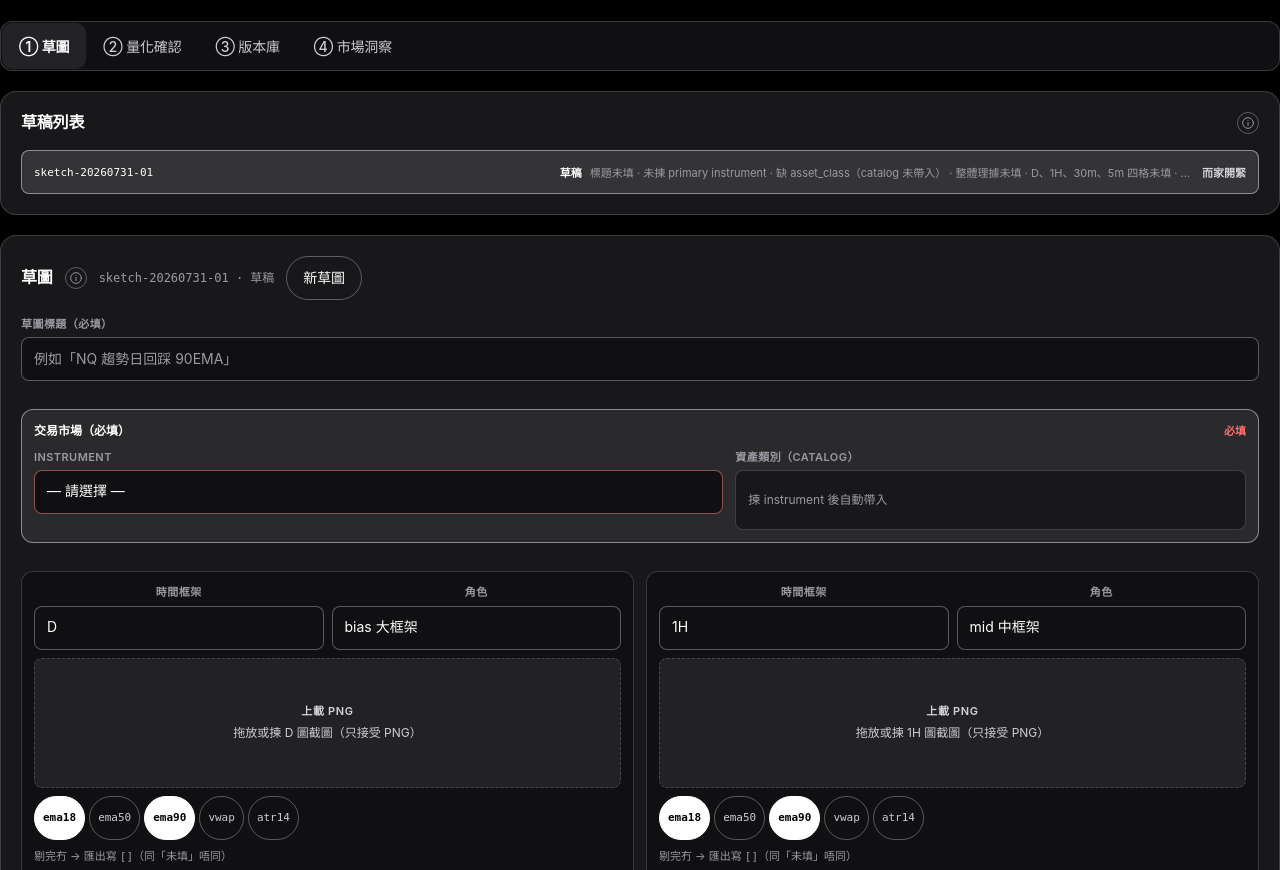
P2 strategy library legacy panels (tab ② / ③) › keeps unquantified_notes visible and parameters read-only
This screenshot has width=1280, height=870.
Click the tab "③ 版本庫" at {"x": 248, "y": 46}, box [200, 24, 296, 68]
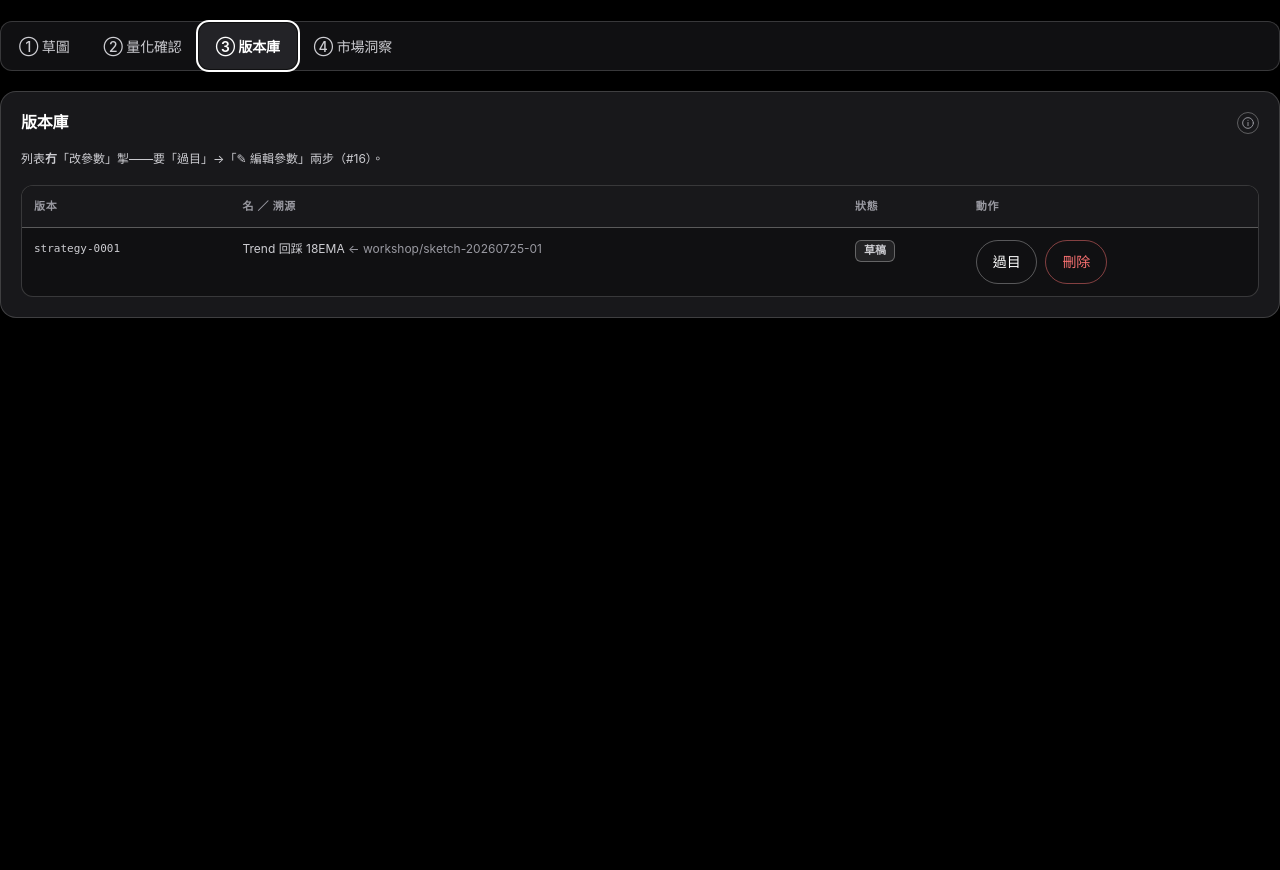
Expected: the text "strategy-0001" is shown, [22, 227, 230, 296]
Click the button "過目" at {"x": 1007, "y": 262}, box [976, 240, 1038, 284]
(page scrolled)
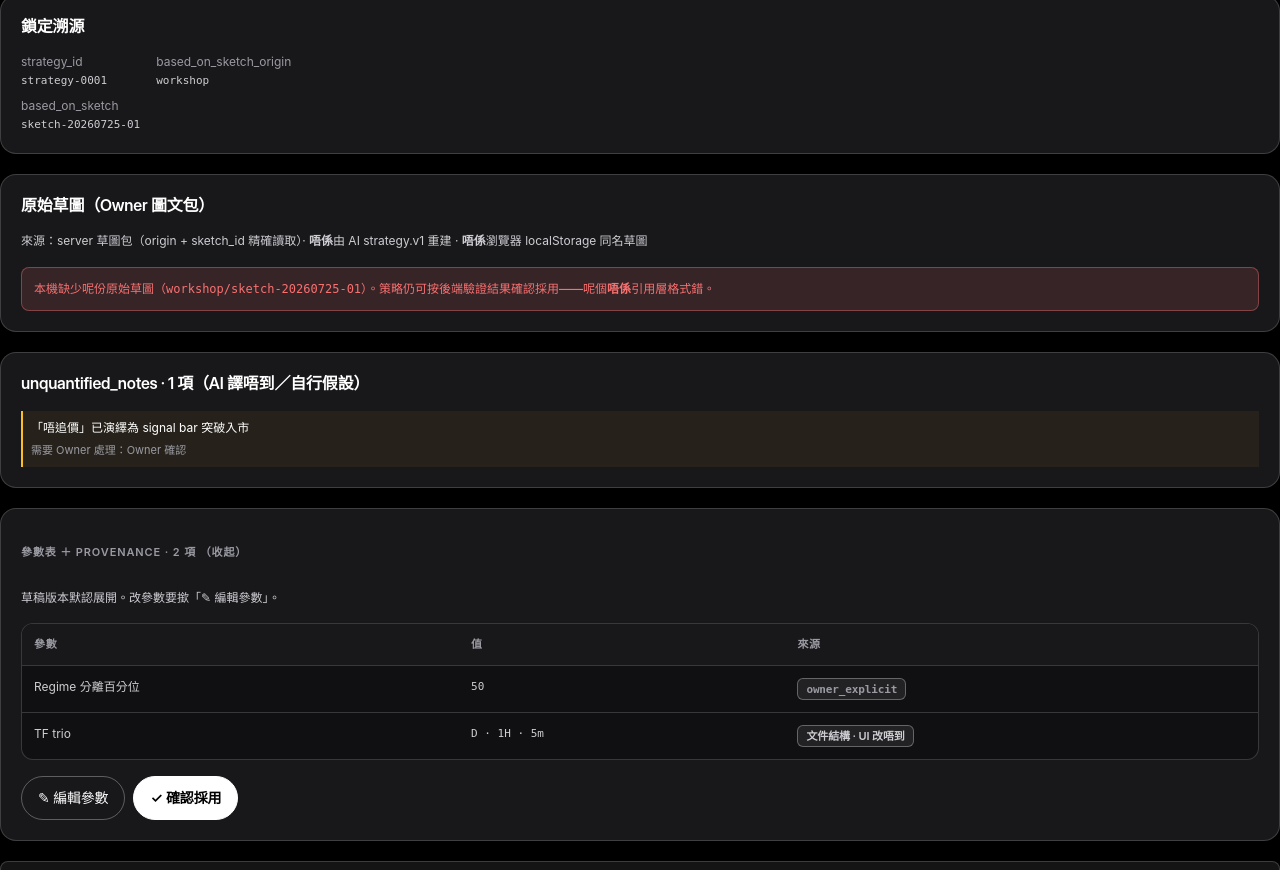
Expected: the heading "unquantified_notes · 1 項（AI 譯唔到／自行假設）" is shown, [21, 374, 369, 394]
